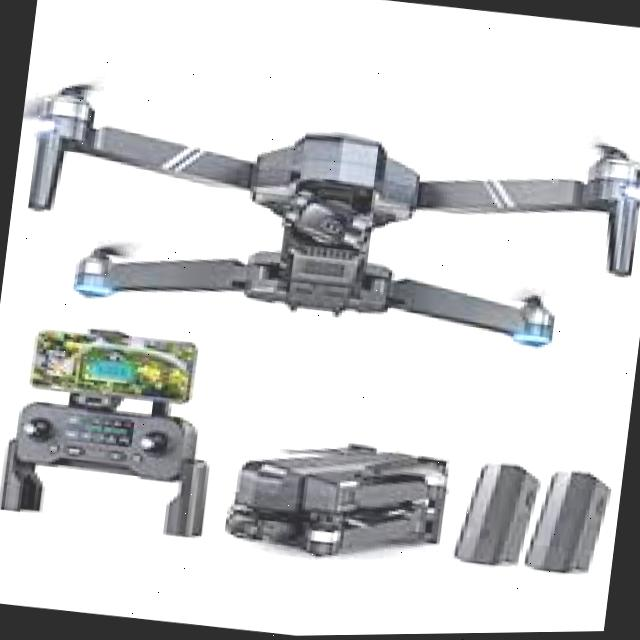drone: (0, 41, 640, 376)
